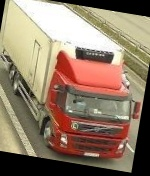truck: (0, 0, 150, 165)
